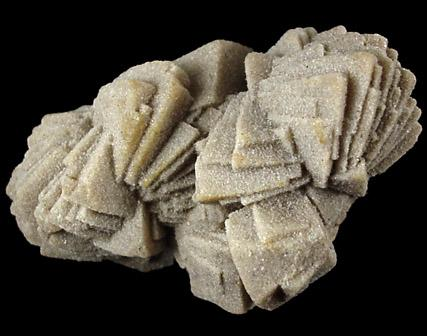calcite: (6, 26, 423, 314)
